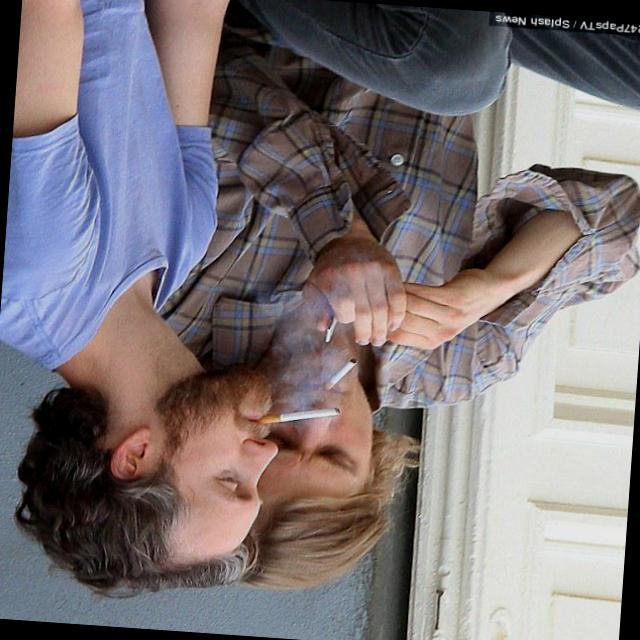smoke: (232, 380, 351, 440), (313, 340, 376, 397)
